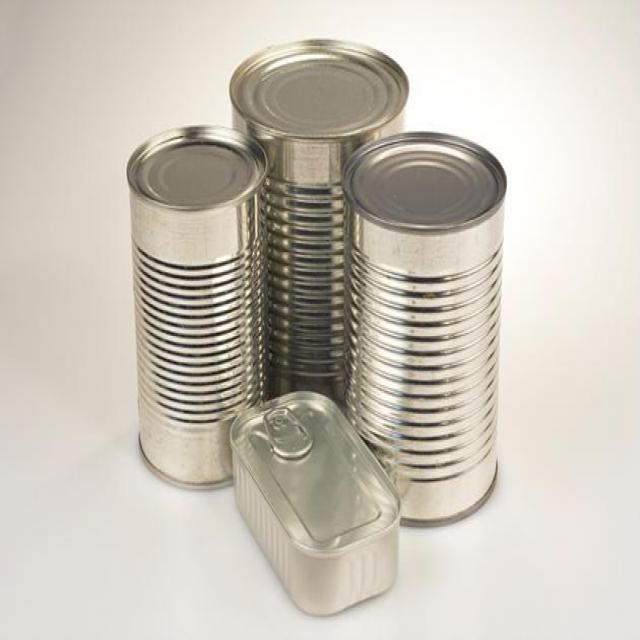metel: (342, 129, 513, 525), (225, 37, 389, 437), (116, 110, 267, 505), (207, 394, 443, 614)
